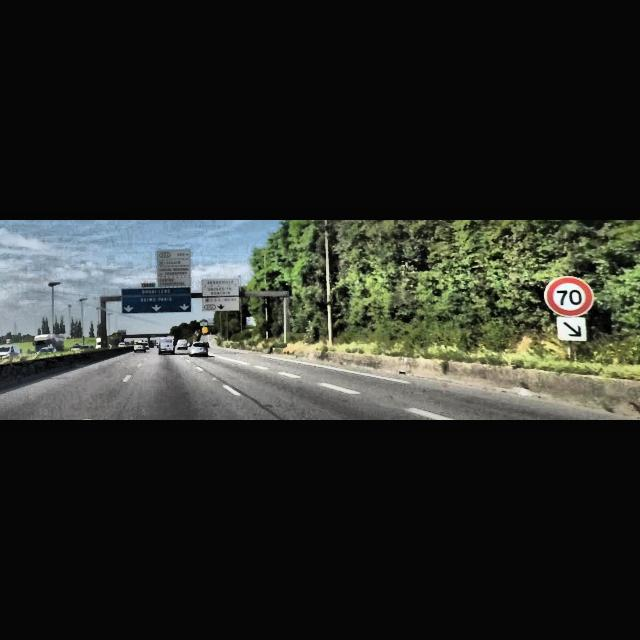speed_70: (545, 278, 593, 316)
